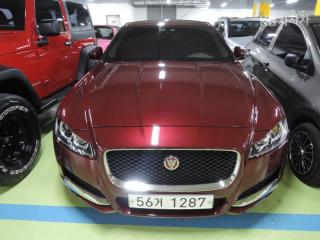1: (170, 196, 179, 208)
2: (179, 197, 188, 208)
5: (135, 196, 145, 207)
6: (145, 196, 154, 208)
7: (197, 197, 207, 208)
8: (188, 197, 198, 208)
거: (154, 196, 165, 208)
